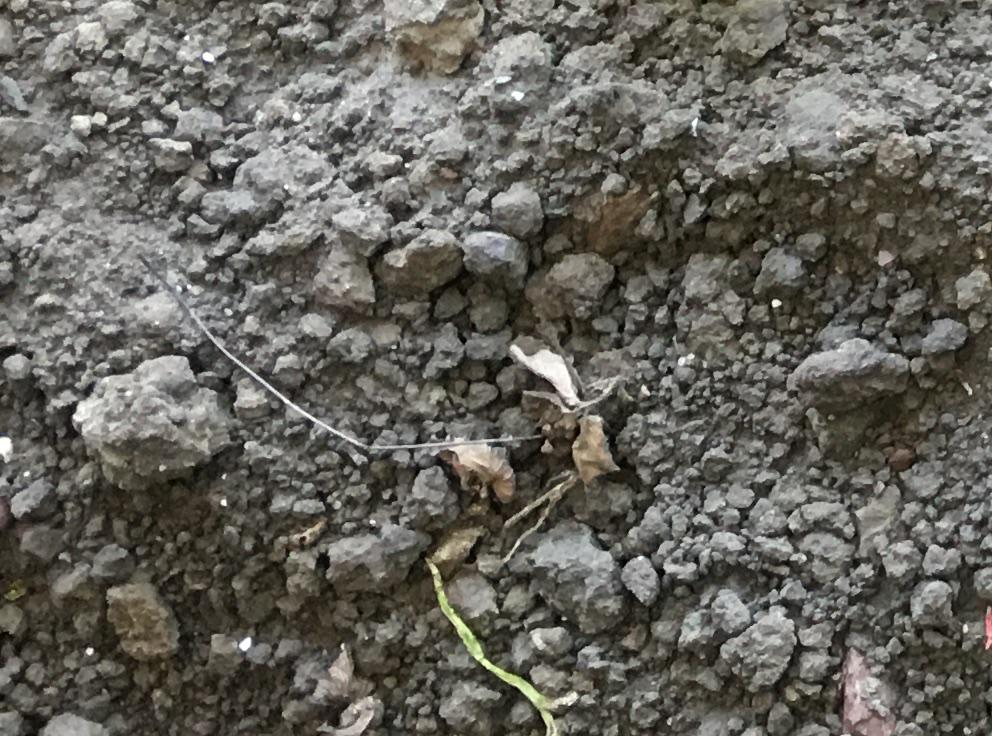block: (62, 356, 238, 484)
